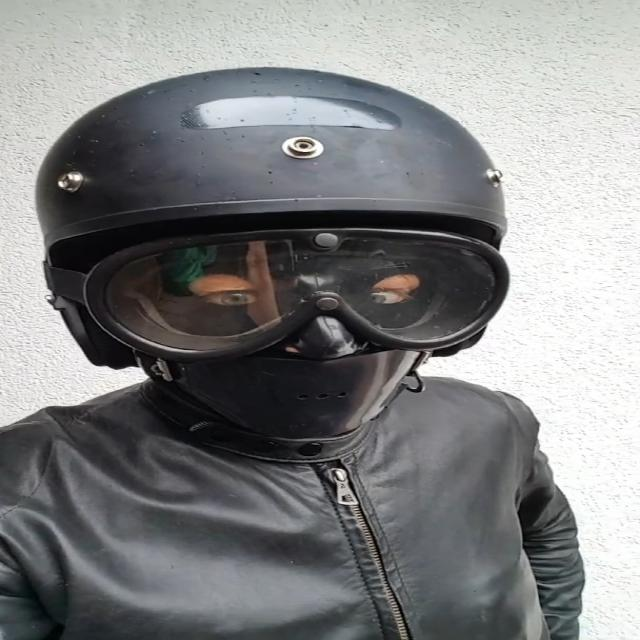Helmet_Wearer: (23, 57, 514, 469)
Jacket_Wearer: (7, 330, 597, 640)
Person: (7, 59, 602, 640)
